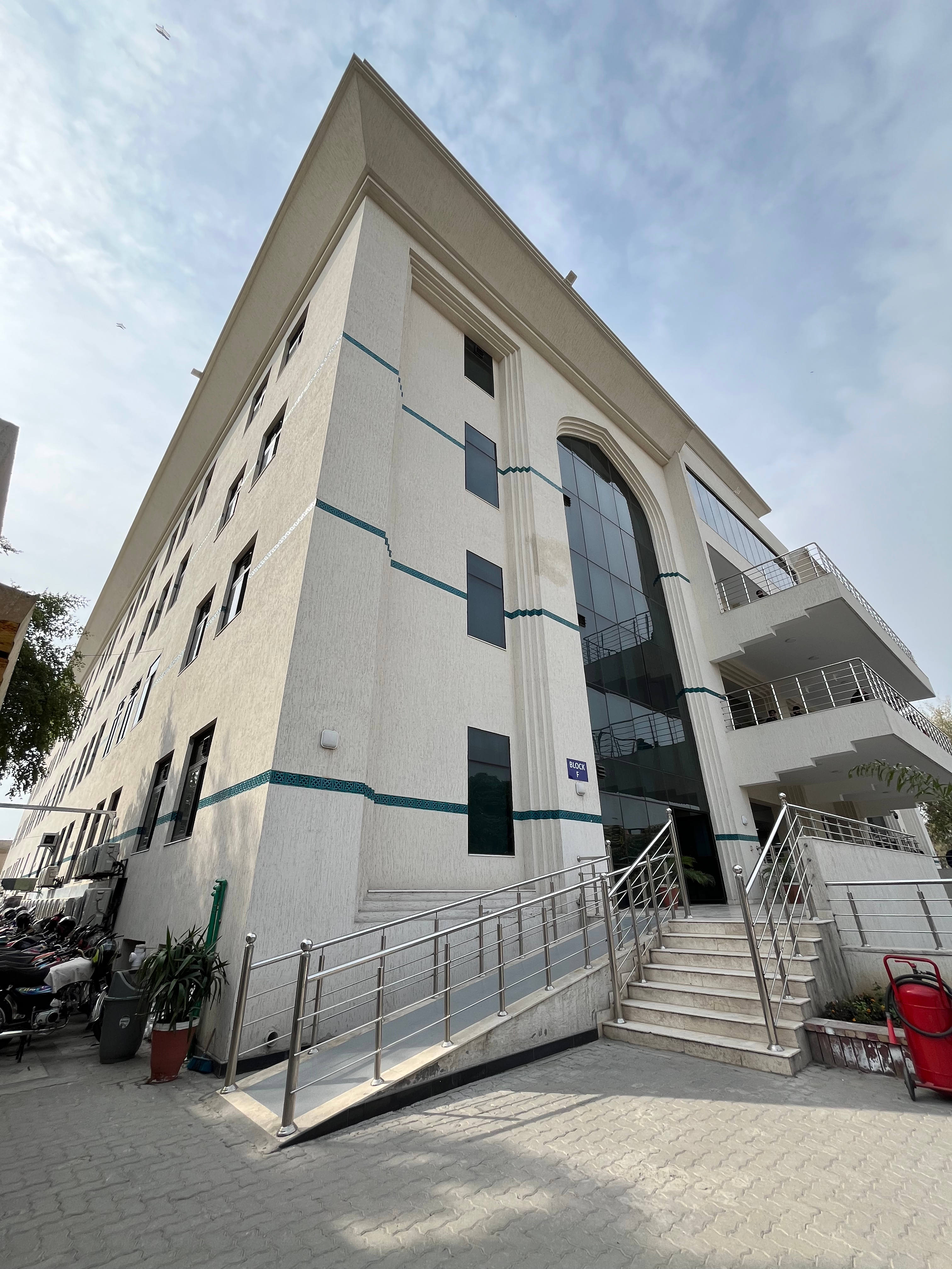Block F: (47, 53, 952, 1113)
